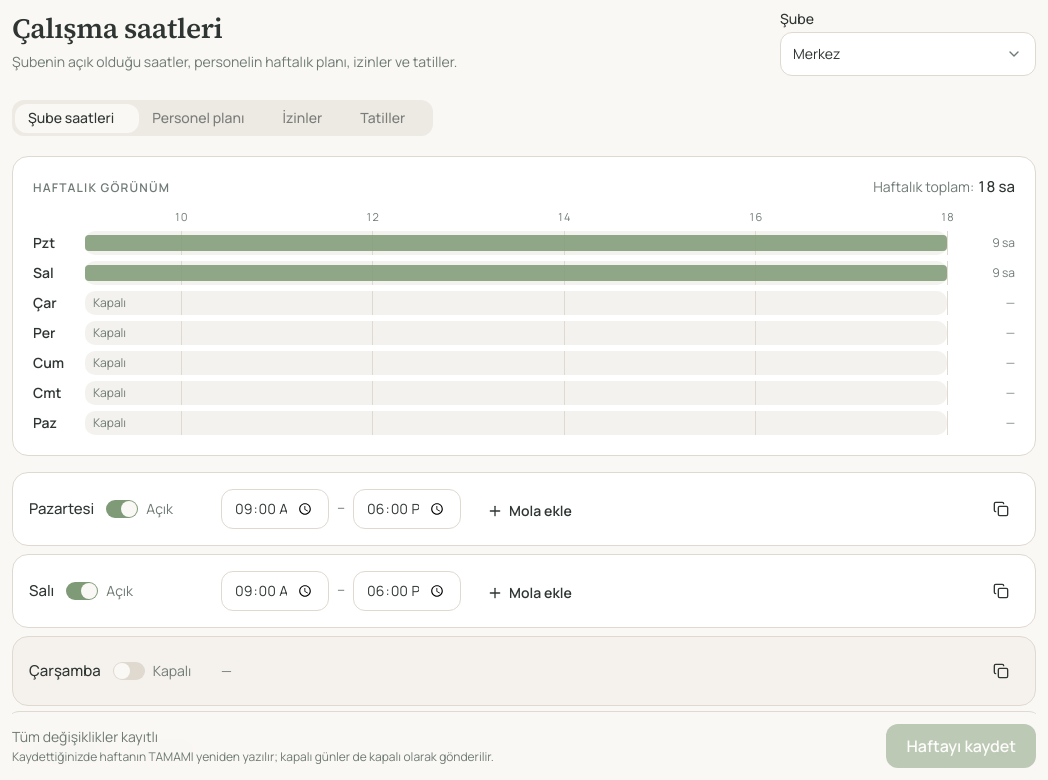
Test: çalışma saatleri — şube › kaydetme HAFTANIN TAMAMINI, SANİYESİZ saatlerle gönderiyor
Replace the text in the 3rd time field named "Açılış" with "10:00". click: (275, 591)
box: left=221, top=571, right=329, bottom=611
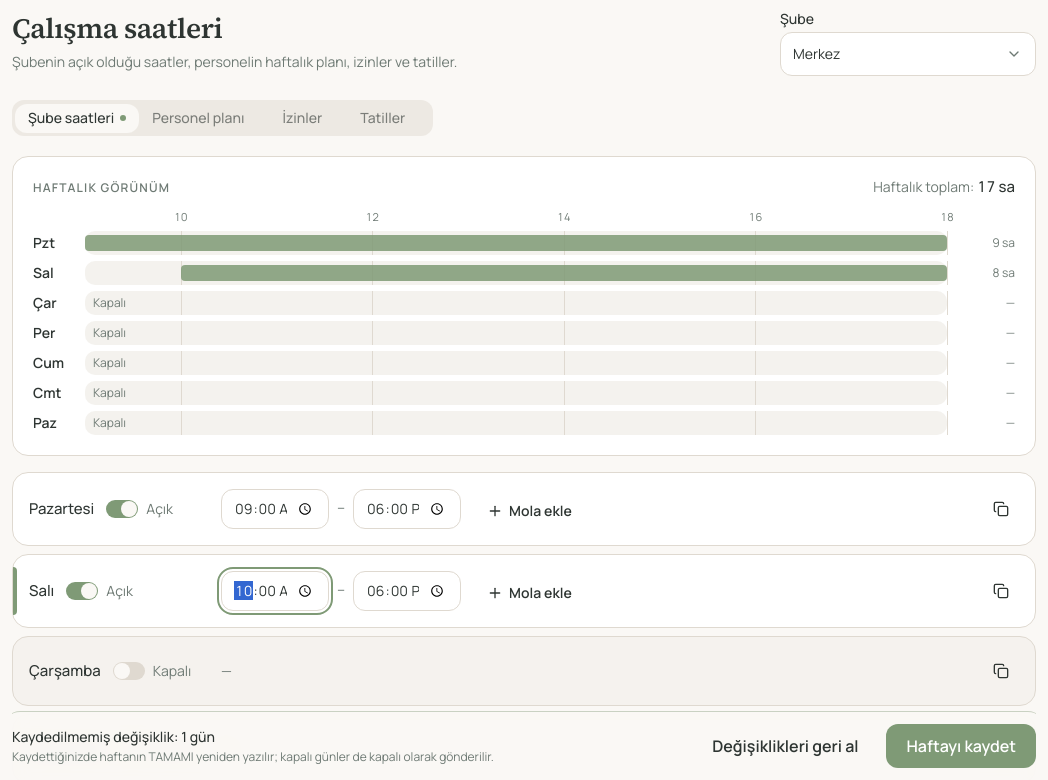
Click the button "Haftayı kaydet". click: (961, 746)
box: left=886, top=724, right=1036, bottom=768
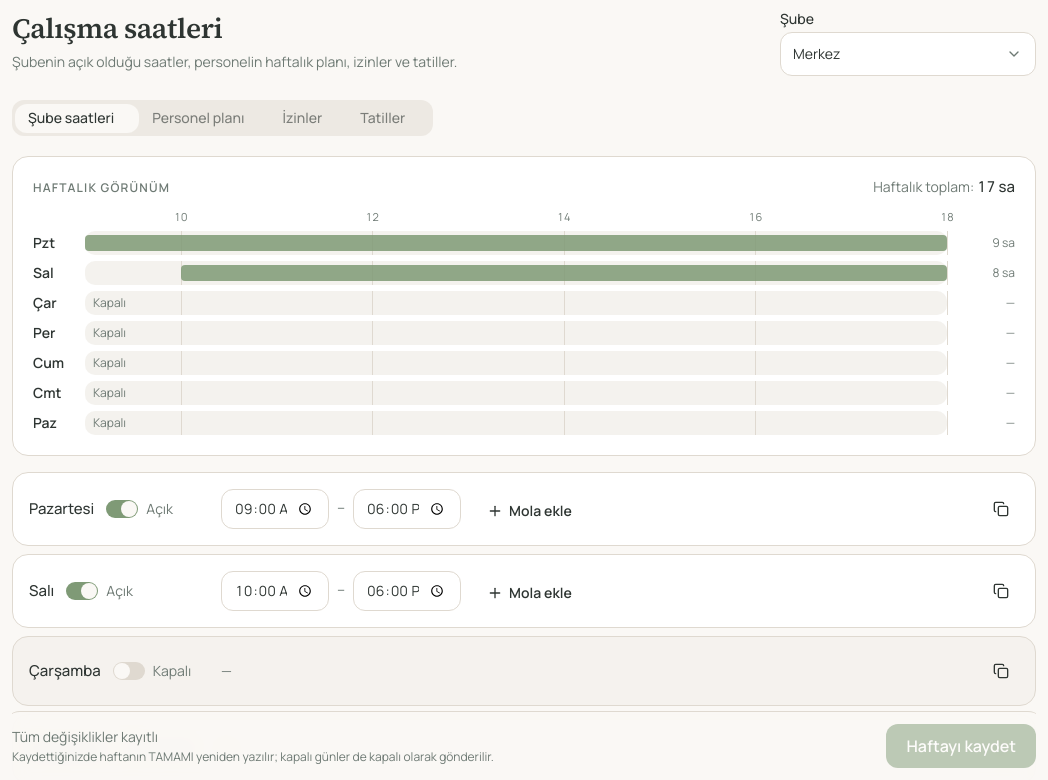
Expected: the text "Tüm değişiklikler kayıtlı" is shown, left=12, top=727, right=158, bottom=746
